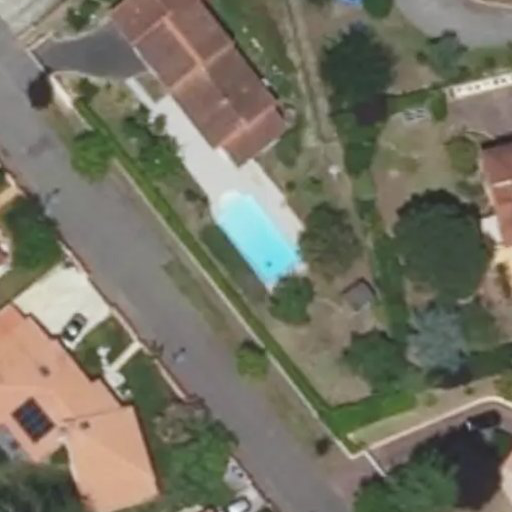pool: (213, 220, 298, 263)
